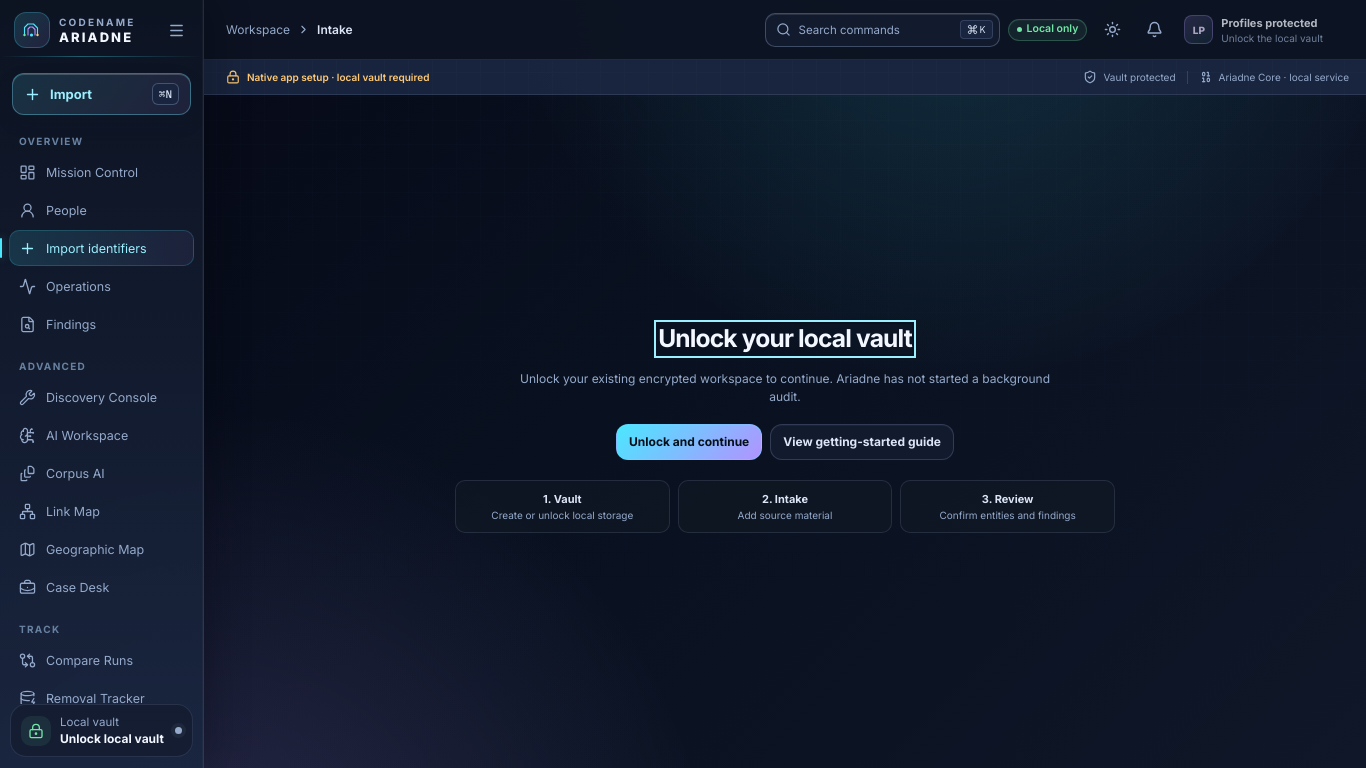
it: native vault setup controls › offers explicit unlock and renders only a fixed safe failure
This screenshot has width=1366, height=768.
Check: the heading "Unlock your local vault" is shown, box [658,324,912,354]
Click the button "Local vault Unlock local vault". click: (102, 730)
box: [10,704,193,757]
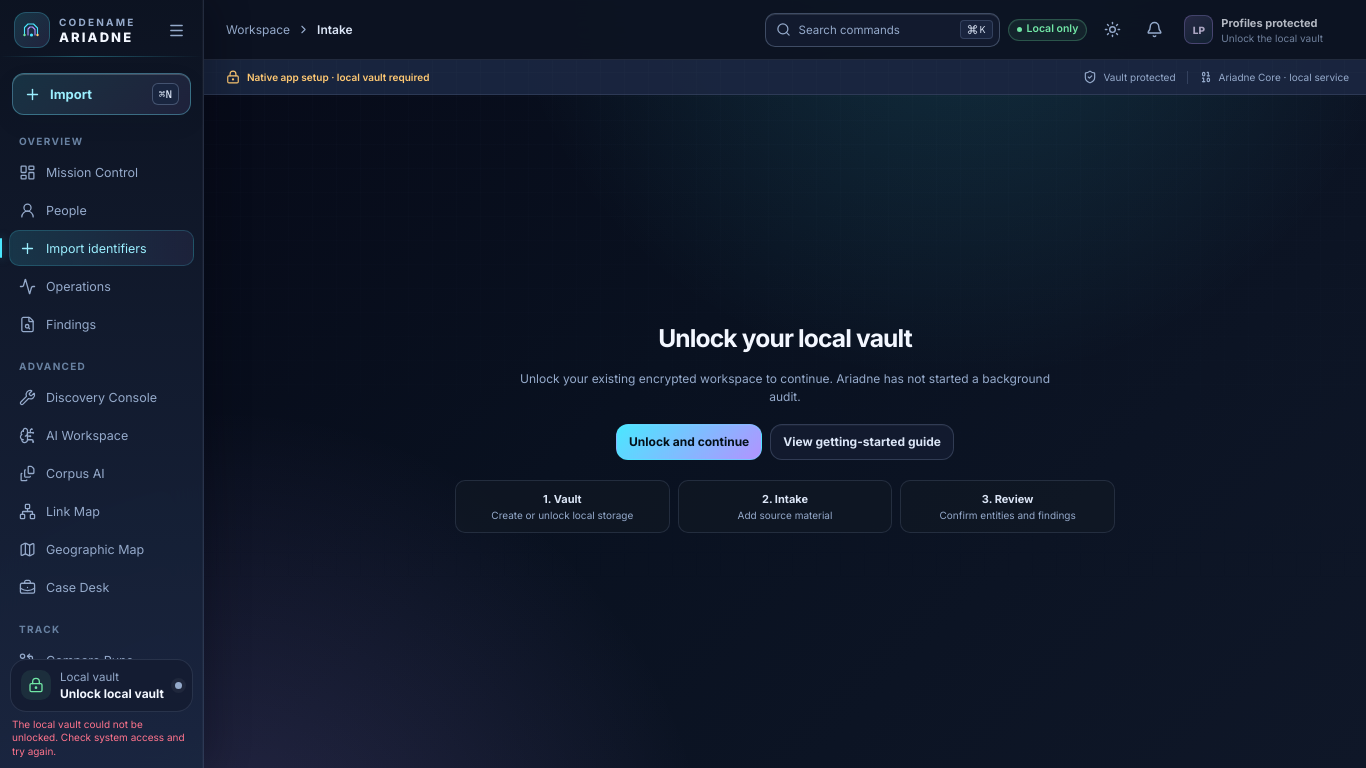
Check: the message does not show "native error with private material", box [12,718,191,758]
Check: the message reads "The local vault could not be unlocked. Check system access and try again.", box [12,718,185,756]
